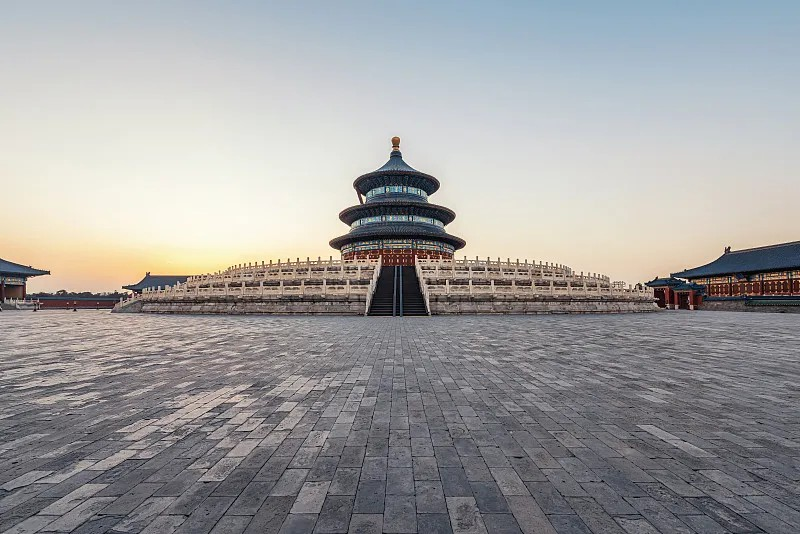Heaven: (328, 134, 467, 261)
